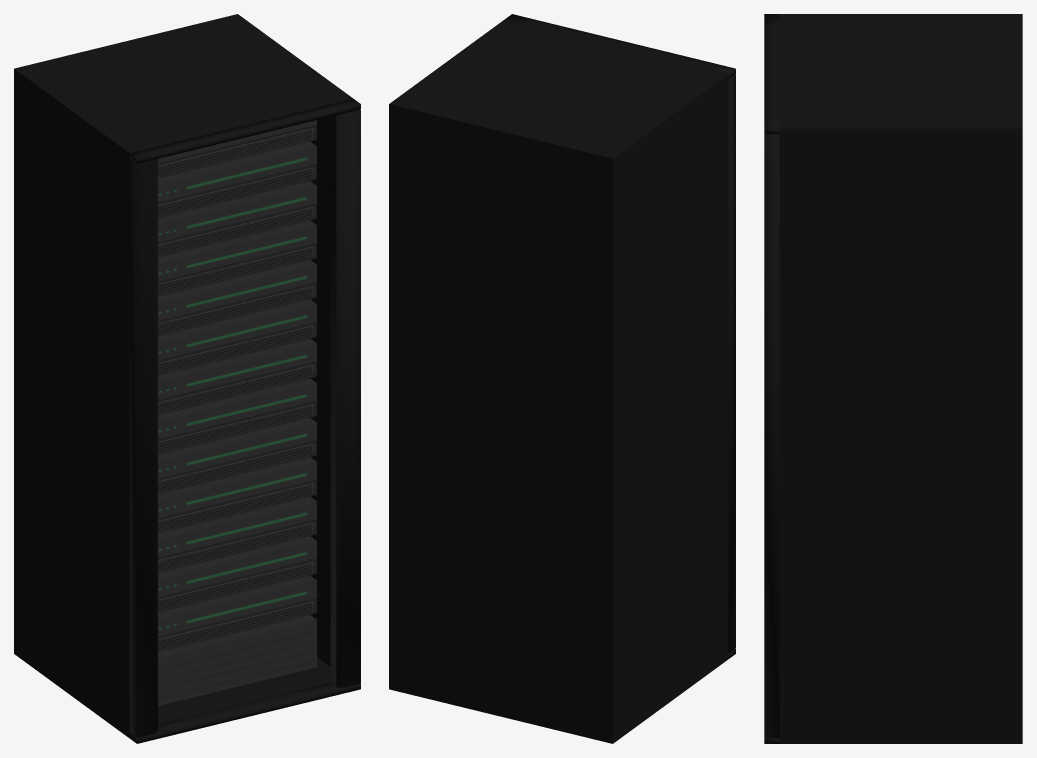
Rendered from server.glb.
The picture shows the model from 3 angles, left to right: view 1: azimuth 30°, elevation 25°; view 2: azimuth 150°, elevation 25°; view 3: azimuth 270°, elevation 25°; orthographic projection. The views are drawn at different scales.
Visible parts, largest first — view 1: SERVER; view 2: SERVER; view 3: SERVER.
Boxes of the visible parts, x1,y1,x2,y2 form: SERVER: [14, 14, 360, 743]; SERVER: [389, 14, 735, 743]; SERVER: [764, 14, 1022, 743].
Size of the model in its own units: 1.2 by 3 by 1.14.
Materials: 2 (1 with a texture image).
